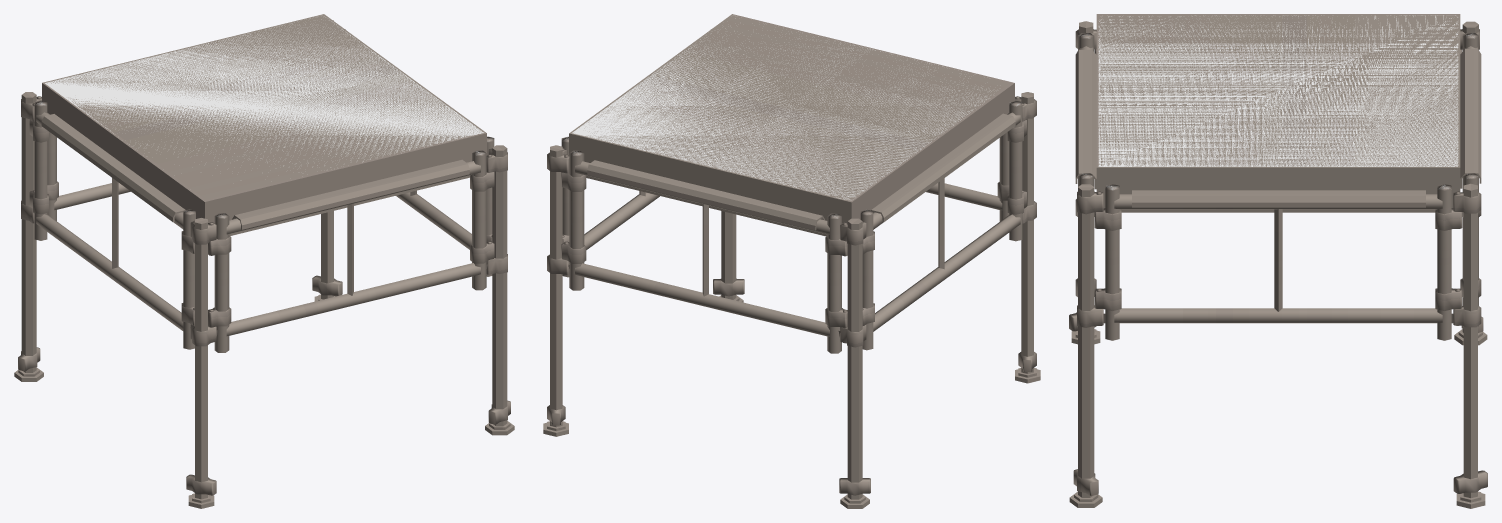
The model's file is objects_un_base_ministage01.gltf.
3 views of the same model, side by side, from view 1: azimuth 30°, elevation 25°; view 2: azimuth 150°, elevation 25°; view 3: azimuth 270°, elevation 25° (orthographic). The views are drawn at different scales.
Parts seen in each view (by area): view 1: um__model_lod0Shape:objects_un_base_ministage01_body, um__model_lod0Shape:objects_un_base_ministage01_shadow_mat, um__model_lod1Shape:objects_un_base_ministage01_body; view 2: um__model_lod0Shape:objects_un_base_ministage01_body, um__model_lod0Shape:objects_un_base_ministage01_shadow_mat; view 3: um__model_lod0Shape:objects_un_base_ministage01_body, um__model_lod0Shape:objects_un_base_ministage01_shadow_mat, um__model_lod1Shape:objects_un_base_ministage01_body.
Part boxes in pixels (x1,y1,x2,y2): um__model_lod0Shape:objects_un_base_ministage01_body: (14,14,514,508); um__model_lod0Shape:objects_un_base_ministage01_shadow_mat: (36,16,493,218); um__model_lod1Shape:objects_un_base_ministage01_body: (47,16,475,129); um__model_lod0Shape:objects_un_base_ministage01_body: (543,14,1040,508); um__model_lod0Shape:objects_un_base_ministage01_shadow_mat: (565,18,1021,218); um__model_lod0Shape:objects_un_base_ministage01_body: (1069,14,1487,508); um__model_lod0Shape:objects_un_base_ministage01_shadow_mat: (1080,15,1477,190); um__model_lod1Shape:objects_un_base_ministage01_body: (1111,18,1458,166).
Size of the model in its own units: 2.53 by 2.2 by 2.53.
2 materials, 1 textured.
